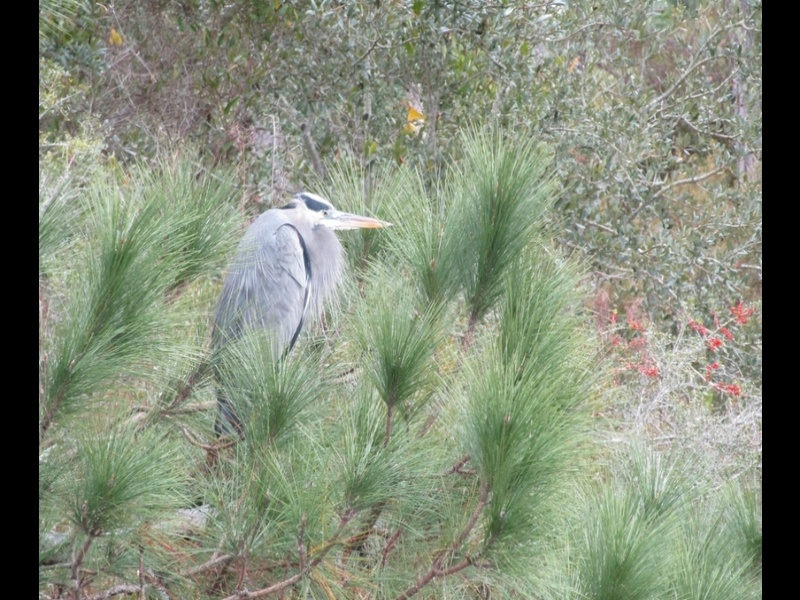heron: (205, 190, 398, 468)
